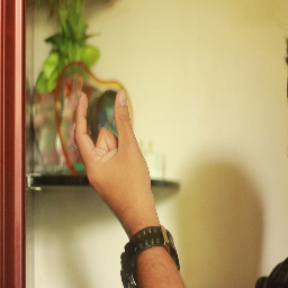U: (70, 86, 155, 203)
